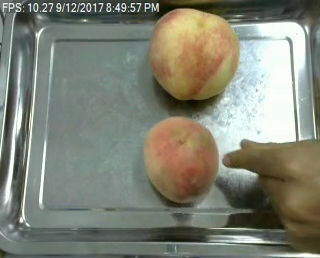Peach: (148, 7, 241, 101), (143, 115, 218, 203)
